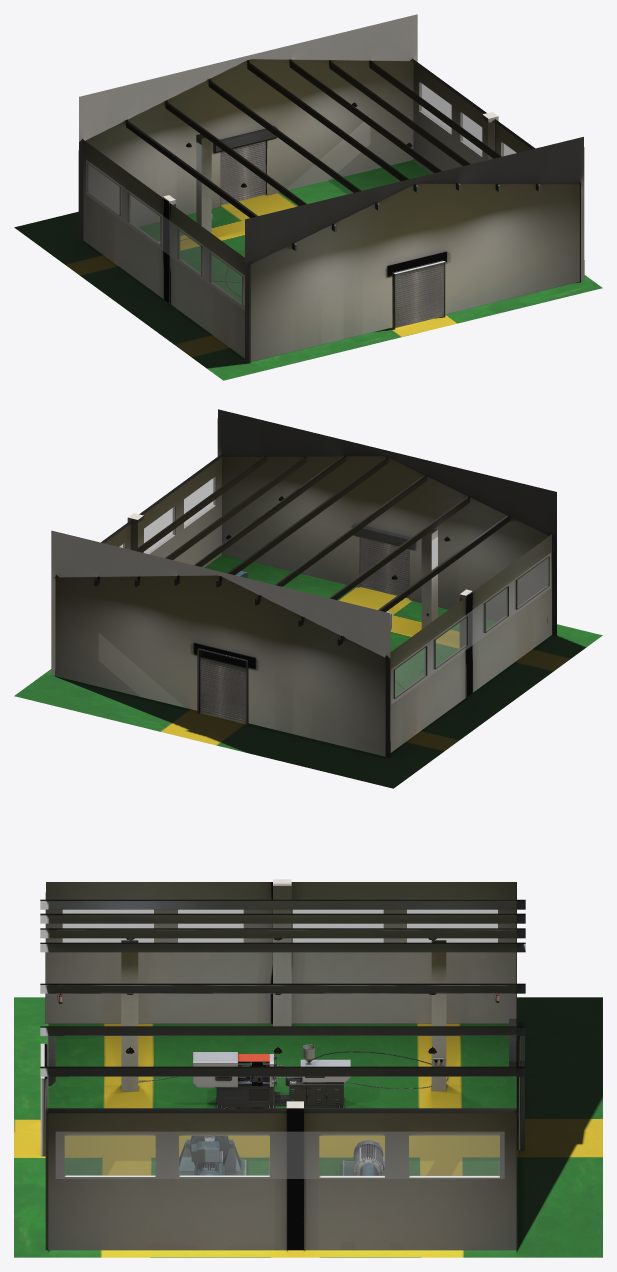
The model's file is S5_Fix_G_S5_Machinery.fbx.
3 views of the same model, one above another, from view 1: azimuth 30°, elevation 25°; view 2: azimuth 150°, elevation 25°; view 3: azimuth 270°, elevation 25° (orthographic). The views are drawn at different scales.
Visible parts, largest first — view 1: FactoryInside, Floor, Glass; view 2: FactoryInside, Floor, Glass; view 3: FactoryInside, Floor, Glass, Modeling_Bench_1, PropSet_1, Modeling_Bench_2, PropSet_2.
Part boxes in pixels (left/top/right/bottom): FactoryInside: left=78, top=14, right=584, bottom=363; Floor: left=14, top=160, right=602, bottom=380; Glass: left=86, top=82, right=516, bottom=310; FactoryInside: left=51, top=409, right=556, bottom=757; Floor: left=14, top=554, right=602, bottom=788; Glass: left=119, top=476, right=550, bottom=704; FactoryInside: left=40, top=879, right=525, bottom=1250; Floor: left=14, top=997, right=602, bottom=1257; Glass: left=55, top=909, right=504, bottom=1178; Modeling_Bench_1: left=193, top=1052, right=350, bottom=1108; PropSet_1: left=57, top=993, right=499, bottom=1175; Modeling_Bench_2: left=238, top=1062, right=343, bottom=1108; PropSet_2: left=126, top=938, right=448, bottom=1088.
Bounding box in the file's own units: 3495 × 1292 × 3341.
10 materials, 9 textured.
